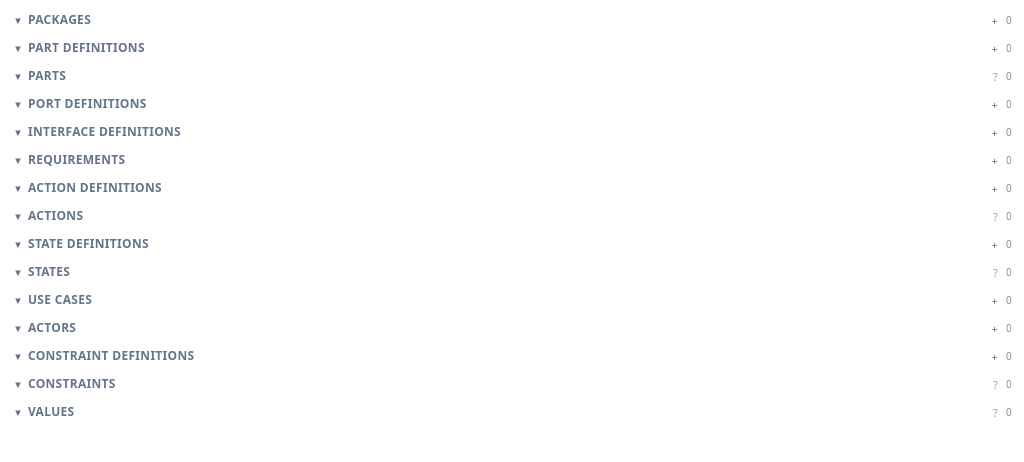
Test case: <ProjectTree /> › clicking "+" creates an element under the project root, selects it, and sets pendingRename
The image size is (1024, 462).
Step 1. Click the button with test id "project-tree-group-create-PartDefinition" → (995, 48), box [987,42,1002,54]
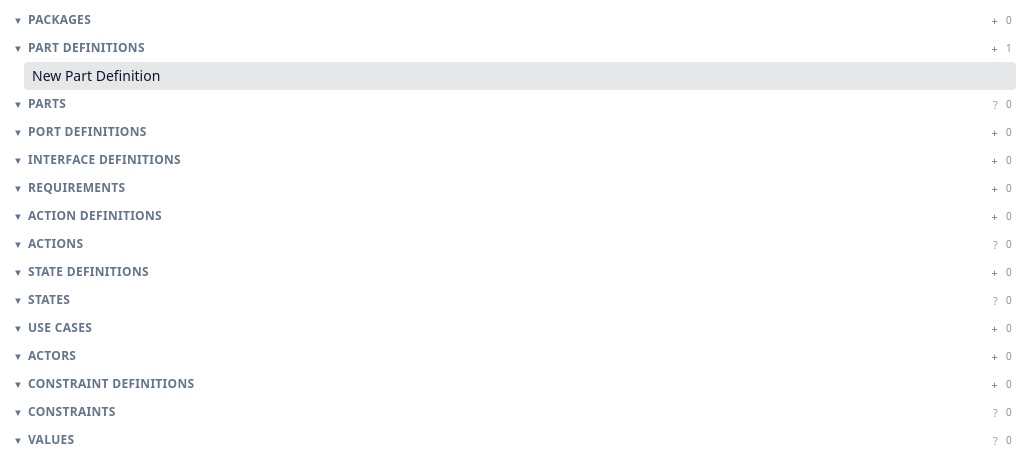
Expected: the text "New Part Definition" is shown, [32,66,160,86]
